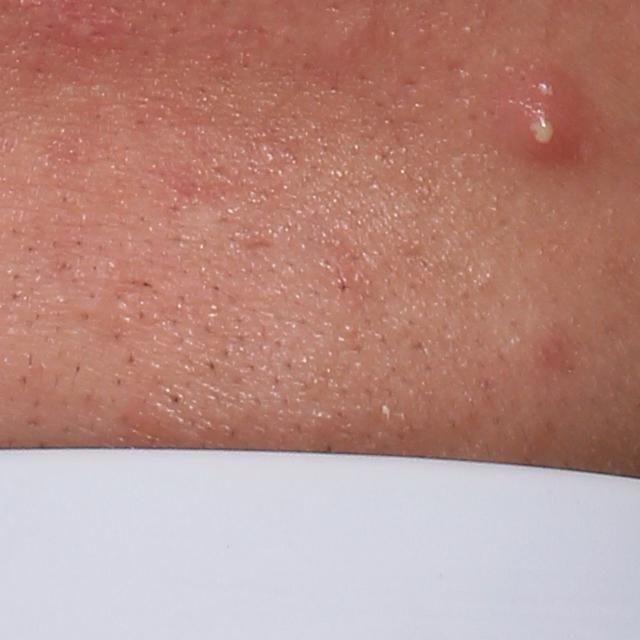atrophic_scar: (239, 234, 279, 253)
hypertrophic_scar: (314, 2, 378, 66)
pustule: (490, 56, 606, 170)
